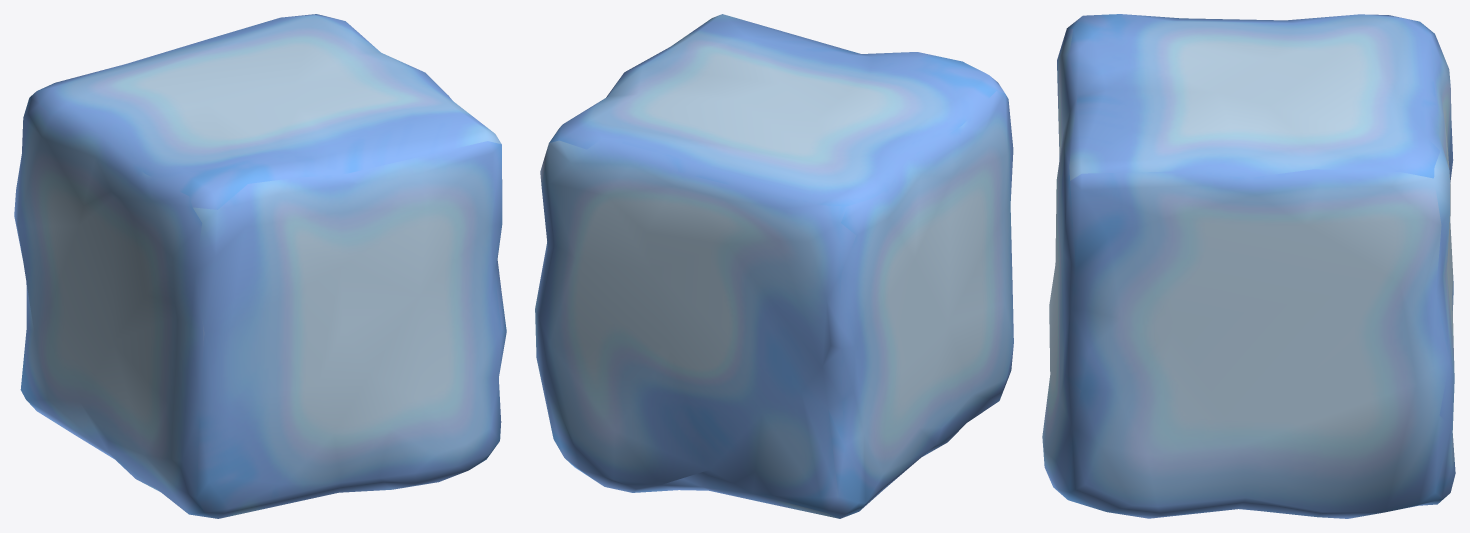
The model's file is blocks_mizu.fbx.
3 renders of one model, left to right at view 1: azimuth 30°, elevation 25°; view 2: azimuth 150°, elevation 25°; view 3: azimuth 270°, elevation 25°, orthographic. The views are drawn at different scales.
Visible parts, largest first — view 1: mizu; view 2: mizu; view 3: mizu.
Part boxes in pixels (<box>): mizu: <box>14,14,506,518</box>; mizu: <box>535,14,1013,518</box>; mizu: <box>1042,14,1455,518</box>.
Bounding box in the file's own units: 84.5 × 85.26 × 84.83.
